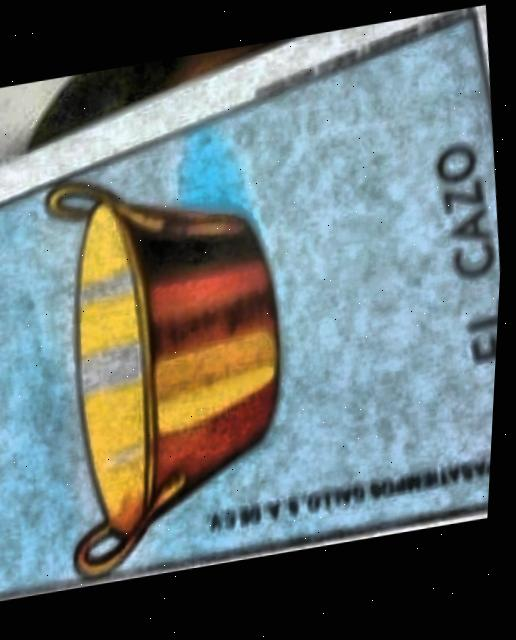El Cazo: (0, 20, 504, 599)
